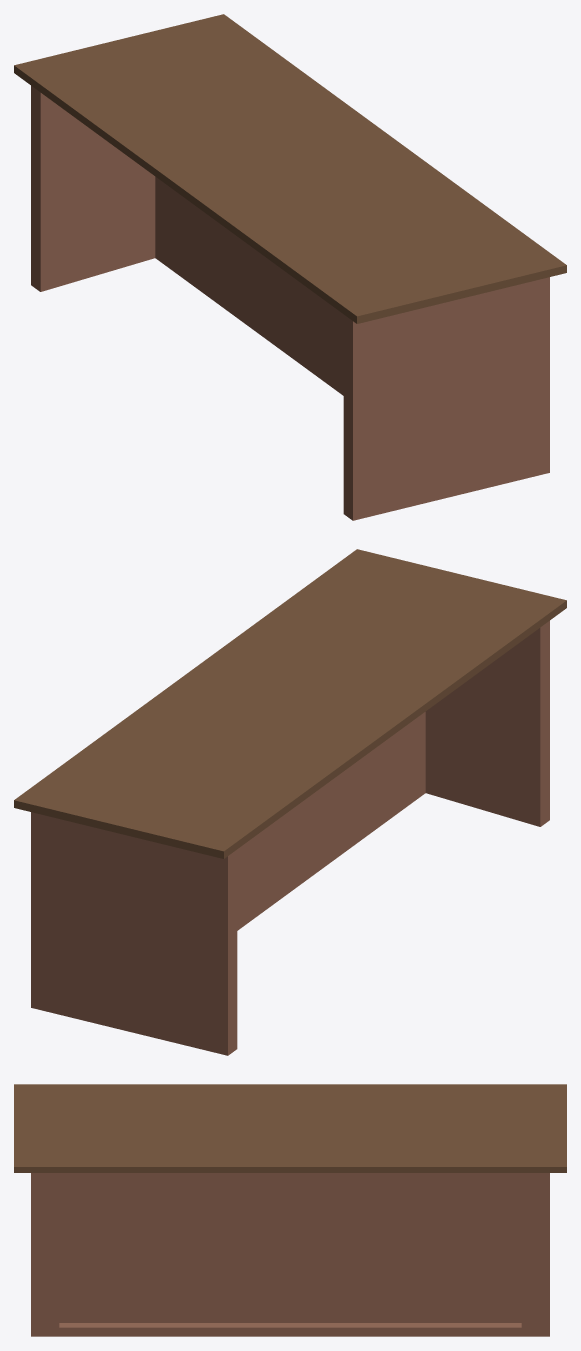
File: Desk.fbx
3 renders of one model, top to bottom at view 1: azimuth 30°, elevation 25°; view 2: azimuth 150°, elevation 25°; view 3: azimuth 270°, elevation 25°, orthographic. The views are drawn at different scales.
Visible parts, largest first — view 1: Desk; view 2: Desk; view 3: Desk.
Boxes of the visible parts, x1,y1,x2,y2 form: Desk: (14, 14, 566, 520); Desk: (14, 549, 566, 1055); Desk: (14, 1084, 566, 1336).
Bounding box in the file's own units: 213 × 207 × 604.
